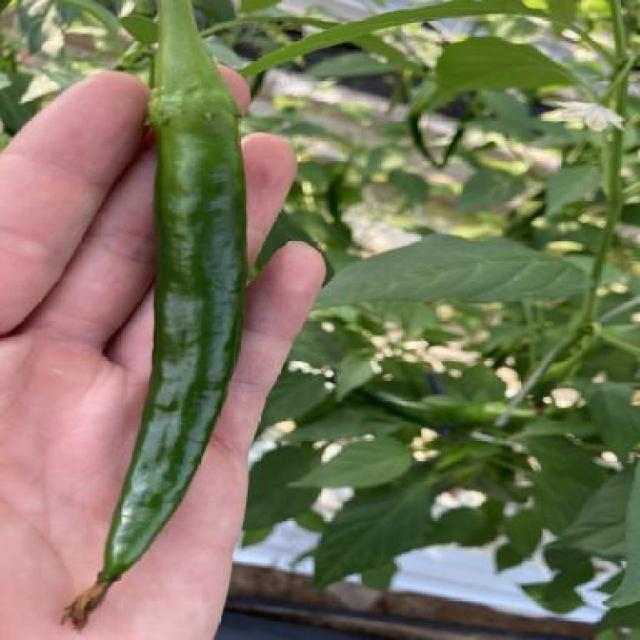green chilli: (105, 115, 249, 576)
